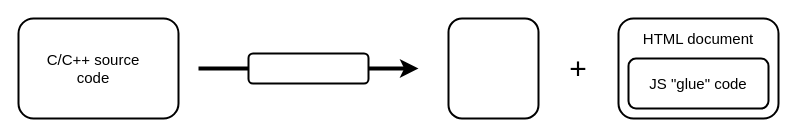
The diagram is 796 pixels wide and 136 high, and some of its shapes have lost their labels. The shapes that lost their labels are listed below. From the top down, each one's centre as x and y in pixels, then its label:
At (308,68): "Emscripten".
At (493,68): "wasm module".
